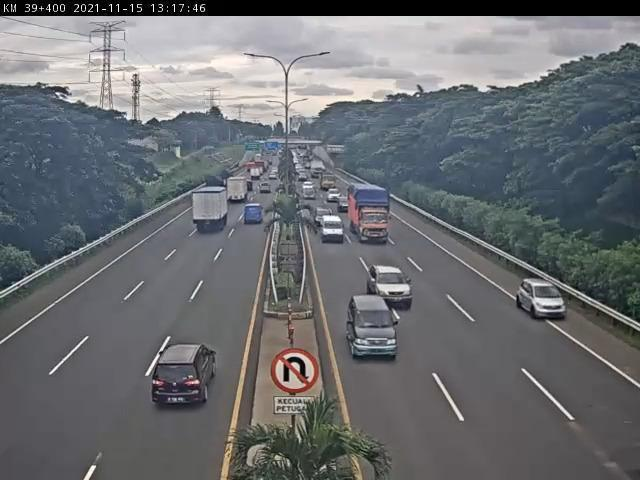car: (154, 344, 217, 408), (346, 294, 400, 361), (515, 276, 572, 322), (367, 263, 416, 311), (322, 214, 346, 245), (243, 202, 265, 229), (316, 207, 335, 228)
truck: (348, 183, 395, 244), (193, 183, 234, 231)
